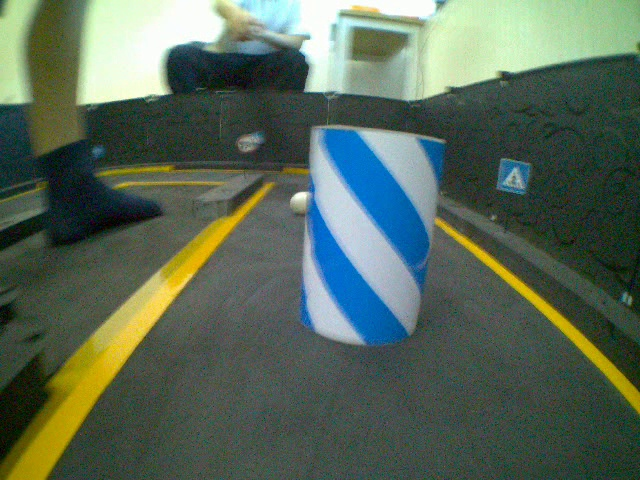bucket: (304, 124, 449, 347)
